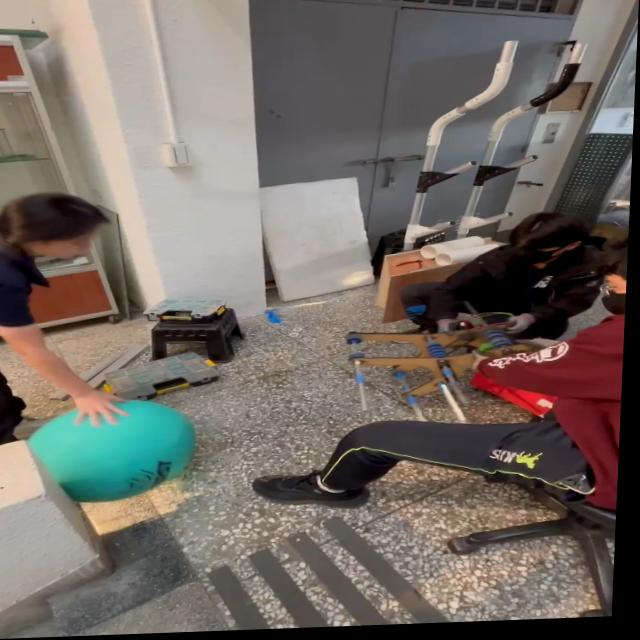ALGAE: (22, 396, 199, 506)
